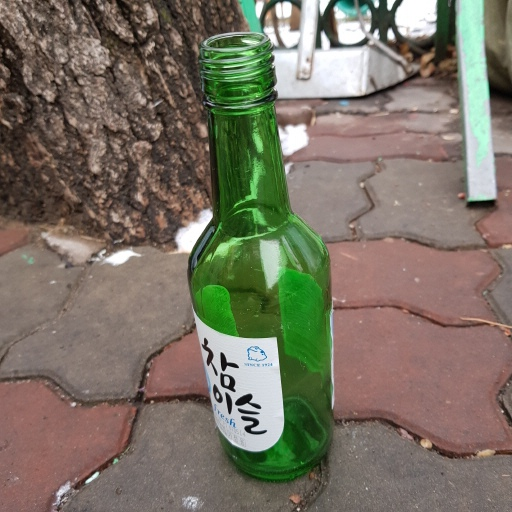Glass_0: (192, 29, 332, 481)
